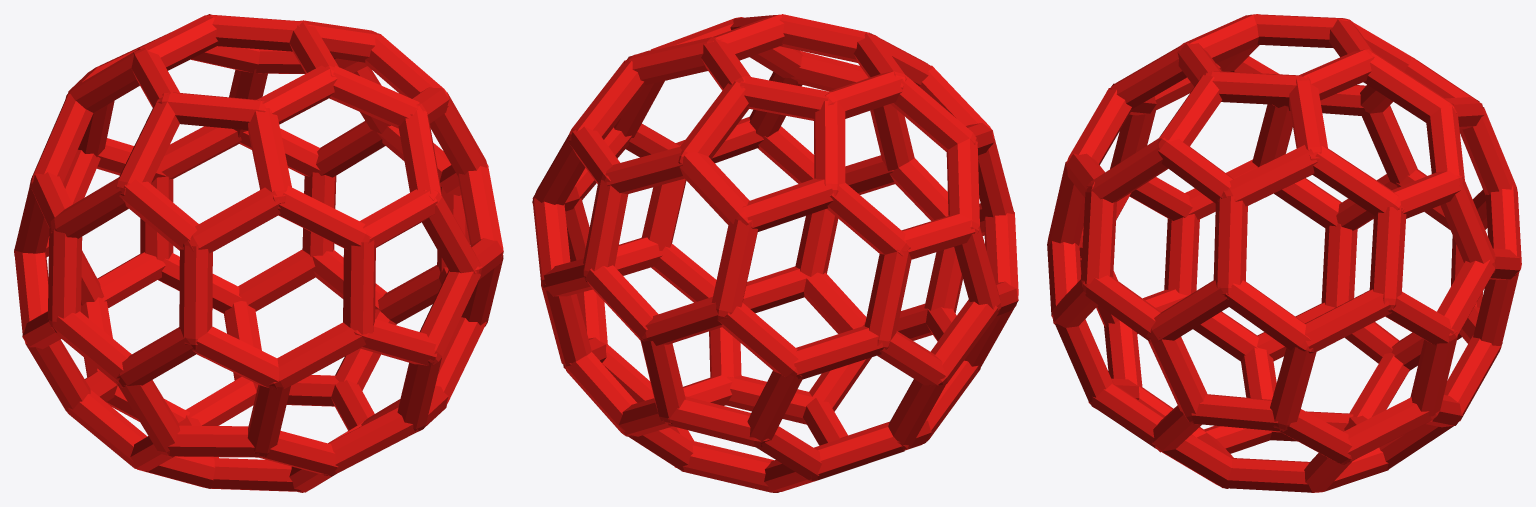
The picture shows the model from 3 angles, left to right: view 1: azimuth 30°, elevation 25°; view 2: azimuth 150°, elevation 25°; view 3: azimuth 270°, elevation 25°; orthographic projection. The views are drawn at different scales.
Parts seen in each view (by area): view 1: C60; view 2: C60; view 3: C60.
Part boxes in pixels (x1,y1,x2,y2): C60: (14,14,503,492); C60: (532,14,1018,492); C60: (1047,14,1521,492).
Size of the model in its own units: 7.64 by 7.1 by 7.35.
